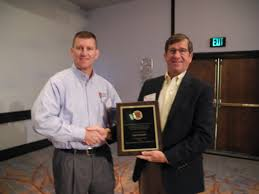F_M_suit jacket: (132, 71, 218, 194)
F_belt: (54, 139, 114, 154)
F_shirt: (24, 67, 131, 149)
